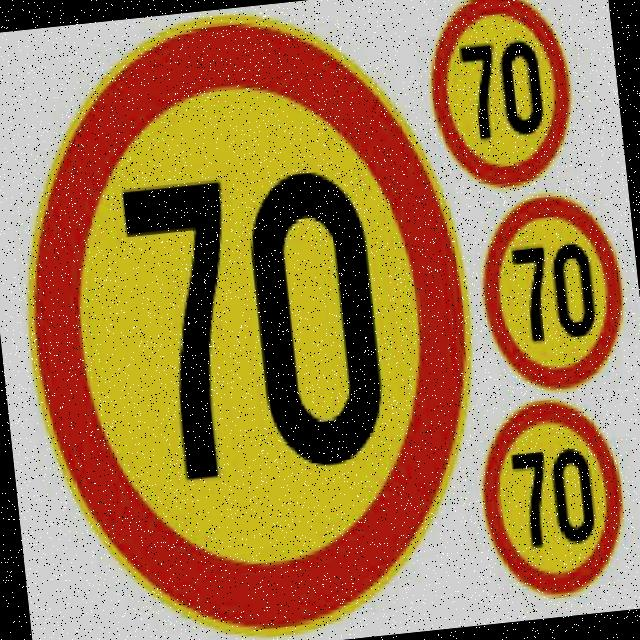Ograniczenie predkosci do 70: (468, 391, 640, 604), (417, 0, 588, 197)
